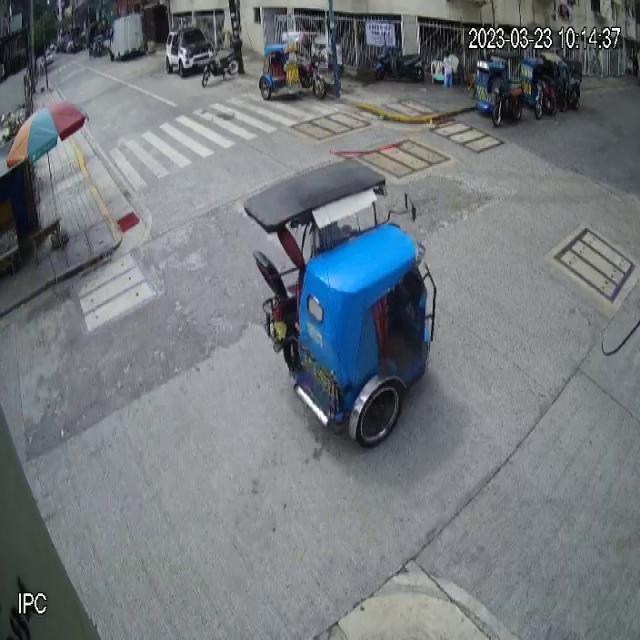Tricycle: (242, 157, 438, 448), (259, 31, 327, 103), (475, 50, 524, 130)
